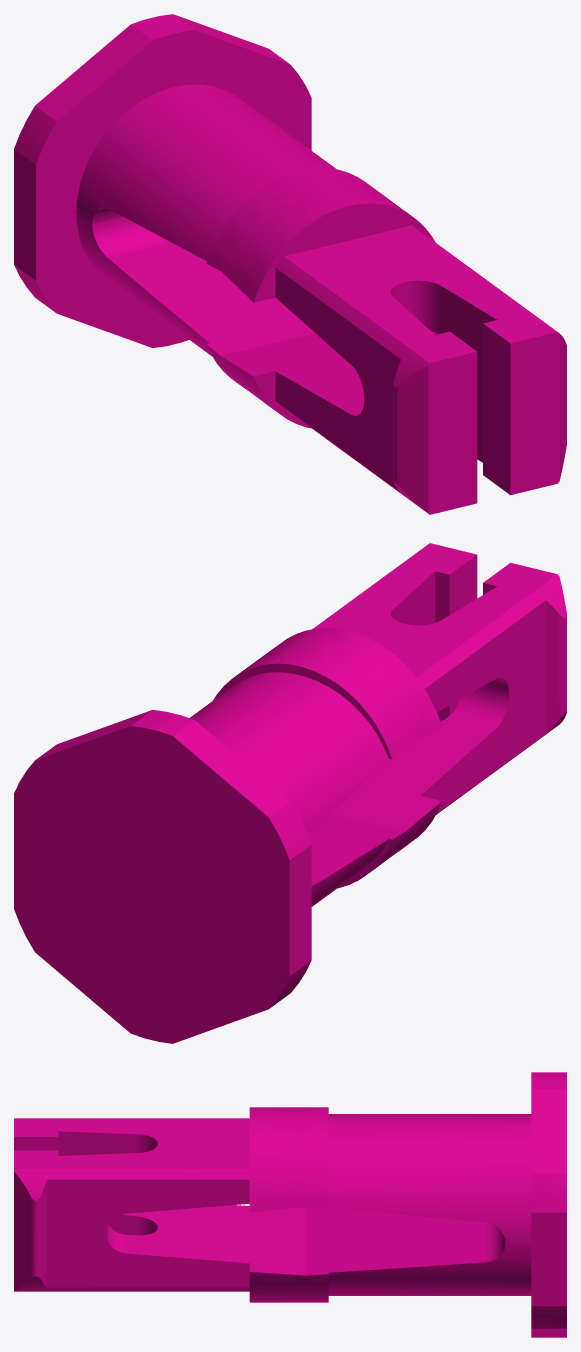
Rendered from 0x2 Idler Pin (Weak) (228-2500-2258).glb.
3 renders of one model, top to bottom at view 1: azimuth 30°, elevation 25°; view 2: azimuth 150°, elevation 25°; view 3: azimuth 270°, elevation 25°, orthographic. The views are drawn at different scales.
Visible parts, largest first — view 1: 0x2 Idler Pin (Weak) (228-2500-2258); view 2: 0x2 Idler Pin (Weak) (228-2500-2258); view 3: 0x2 Idler Pin (Weak) (228-2500-2258).
Part boxes in pixels (x1,y1,x2,y2): 0x2 Idler Pin (Weak) (228-2500-2258): (14,14,566,514); 0x2 Idler Pin (Weak) (228-2500-2258): (14,543,566,1043); 0x2 Idler Pin (Weak) (228-2500-2258): (14,1072,566,1337).
Size of the model in its own units: 0.2283 by 0.2458 by 0.4906.
